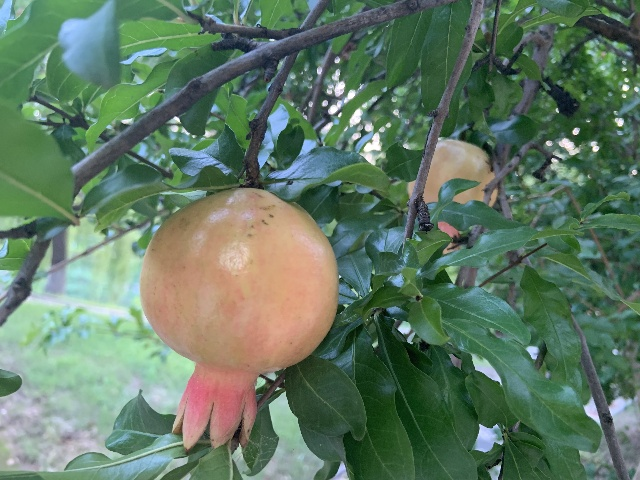mid-growth: (138, 185, 337, 454), (407, 139, 499, 235)
